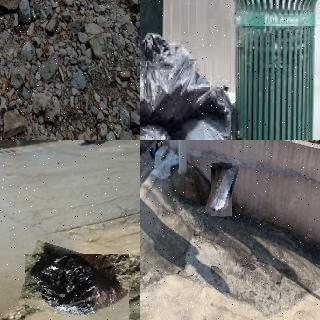Garbage: (21, 247, 132, 320), (140, 31, 228, 120), (162, 111, 259, 140), (208, 162, 236, 217)
